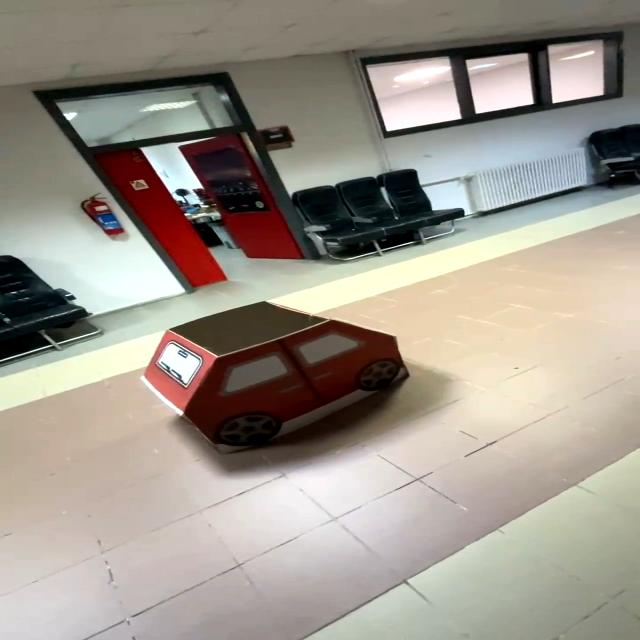red_car: (123, 283, 436, 462)
